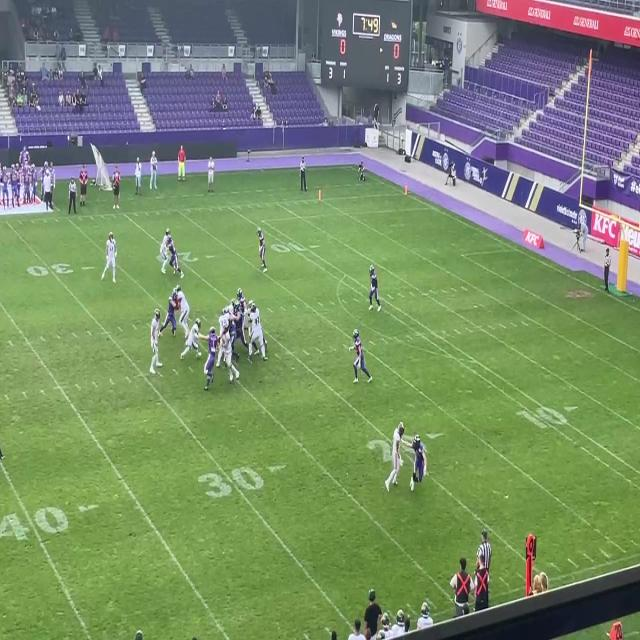1: (512, 406, 555, 435)
3: (196, 469, 235, 505)
4: (0, 506, 39, 550)
american-football-players: (402, 432, 428, 492), (217, 324, 241, 384), (384, 422, 404, 490), (349, 330, 373, 385), (199, 324, 218, 393), (100, 230, 119, 284), (176, 285, 195, 336), (160, 289, 179, 339), (250, 305, 266, 363), (150, 307, 164, 373), (234, 301, 250, 358), (180, 319, 202, 360), (167, 237, 187, 279), (366, 265, 382, 311), (158, 227, 172, 274), (219, 307, 240, 336), (256, 227, 268, 272), (234, 288, 245, 308), (227, 296, 236, 318)
